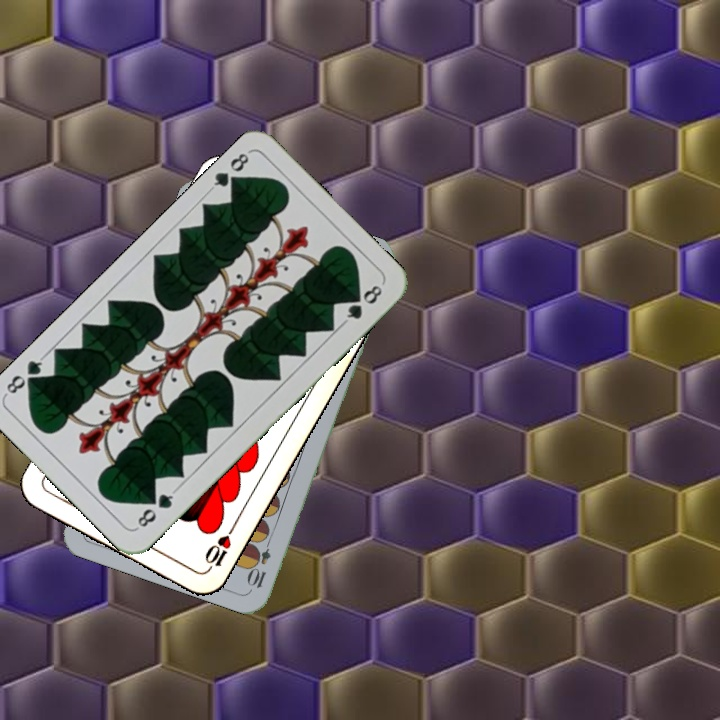E10: (245, 532, 275, 591)
G8: (132, 486, 179, 532), (205, 147, 252, 193)
H10: (200, 522, 238, 576)
